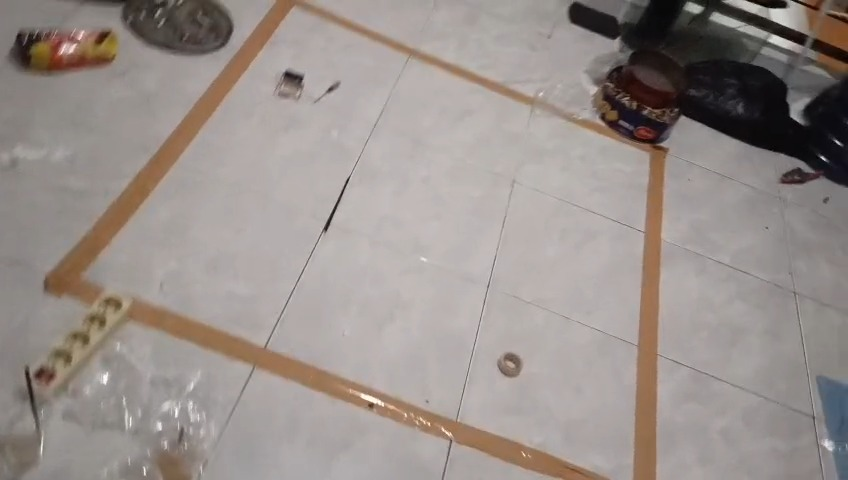floor marking: (45, 0, 535, 303), (128, 299, 604, 479), (554, 110, 666, 479)
